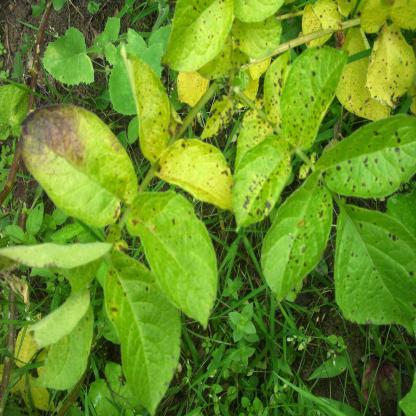tomato septoria leaf spot: (126, 189, 224, 335), (256, 162, 330, 304), (276, 35, 343, 172), (319, 114, 416, 201), (234, 127, 293, 235), (159, 138, 241, 210), (123, 51, 172, 171), (364, 26, 414, 108), (198, 90, 241, 141)
